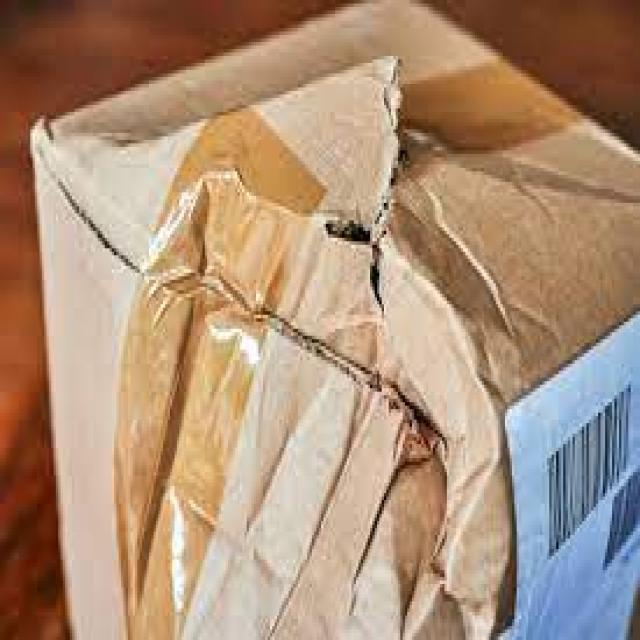Kardus kondisi rusak: (33, 1, 640, 640)
